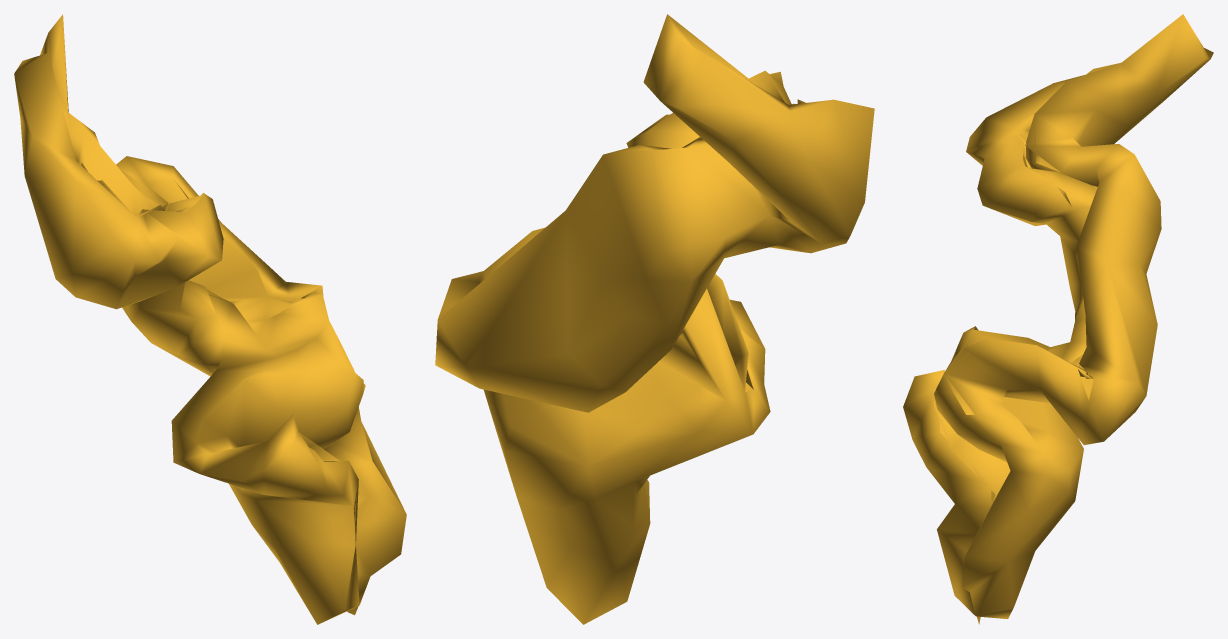
Rendered from nervoso-precentral-sulcus-inferior-part-l.glb.
The picture shows the model from 3 angles, left to right: view 1: azimuth 30°, elevation 25°; view 2: azimuth 150°, elevation 25°; view 3: azimuth 270°, elevation 25°; orthographic projection. The views are drawn at different scales.
Parts seen in each view (by area): view 1: Precentral sulcus (inferior part)*.l; view 2: Precentral sulcus (inferior part)*.l; view 3: Precentral sulcus (inferior part)*.l.
Boxes of the visible parts, x1,y1,x2,y2 form: Precentral sulcus (inferior part)*.l: (14, 14, 406, 624); Precentral sulcus (inferior part)*.l: (435, 14, 874, 624); Precentral sulcus (inferior part)*.l: (903, 14, 1213, 624).
Bounding box in the file's own units: 0.0263 × 0.0479 × 0.0253.
